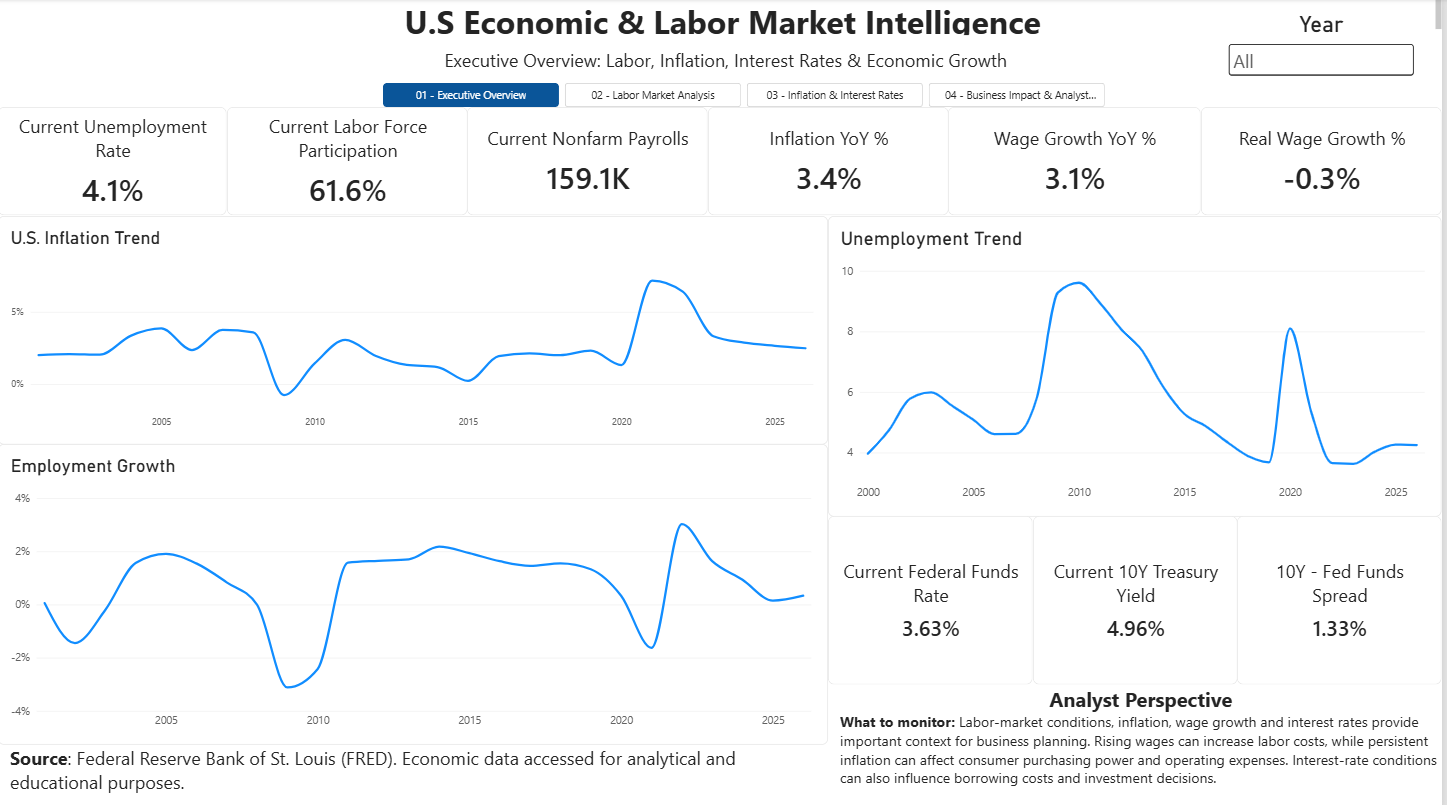

What the dashboard file says about the page in this screenshot:
{"tool":"powerbi","page":{"name":"01 - Executive Overview","canvas":[1920,1080],"ordinal":0},"visuals":[{"type":"textbox","box":[16,0,1904,48],"z":0},{"type":"textbox","box":[16,64,1904,48],"z":1},{"type":"cardVisual","title":"Current Unemployment Rate","fields":{"Data":["Fact_Unemployment.Current Unemployment Rate"]},"box":[0,144,304,144],"z":2},{"type":"cardVisual","title":"Current Labor Force Participation","fields":{"Data":["Fact_Labor_Force.Current Labor Force Participation"]},"box":[304,144,320,144],"z":3},{"type":"cardVisual","title":"Current Non Farm Payrolls","fields":{"Data":["Fact_Payrolls.Current Nonfarm Payrolls"]},"box":[624,144,320,144],"z":4},{"type":"cardVisual","title":"Inflation YoY %","fields":{"Data":["Measurers.Inflation YoY %"]},"box":[944,144,320,144],"z":5},{"type":"cardVisual","title":"Wage Growth YoY %","fields":{"Data":["Measurers.Wage Growth YoY %"]},"box":[1264,144,336,144],"z":6},{"type":"cardVisual","title":"Real Wage Growth %","fields":{"Data":["Measurers.Real Wage Growth %"]},"box":[1600,144,320,144],"z":7},{"type":"lineChart","title":"U.S. Inflation Trend","fields":{"Category":["Dim_Month.Month Start.Variation.Date Hierarchy.Year","Dim_Month.Month Start.Variation.Date Hierarchy.Quarter","Dim_Month.Month Start.Variation.Date Hierarchy.Month","Dim_Month.Month Start.Variation.Date Hierarchy.Day"],"Y":["Measurers.Inflation YoY Trend %"]},"box":[0,288,1104,304],"z":8},{"type":"lineChart","title":"Unemployment Trend","fields":{"Category":["Dim_Month.Month Start.Variation.Date Hierarchy.Year","Dim_Month.Month Start.Variation.Date Hierarchy.Quarter","Dim_Month.Month Start.Variation.Date Hierarchy.Month","Dim_Month.Month Start.Variation.Date Hierarchy.Day"],"Y":["Fact_Unemployment.Average Unemployment Rate"]},"box":[1104,288,816,400],"z":9},{"type":"lineChart","title":"Employment Growth","fields":{"Category":["Dim_Month.Month Start.Variation.Date Hierarchy.Year","Dim_Month.Month Start.Variation.Date Hierarchy.Quarter","Dim_Month.Month Start.Variation.Date Hierarchy.Month","Dim_Month.Month Start.Variation.Date Hierarchy.Day"],"Y":["Measurers.Payroll YoY Growth Trend %"]},"box":[0,592,1104,400],"z":10},{"type":"cardVisual","title":"Current Federal Funds Rate","fields":{"Data":["Measurers.Current Federal Funds Rate"]},"box":[1104,688,272,224],"z":11},{"type":"cardVisual","title":"Current 10Y Treasury Yield","fields":{"Data":["Measurers.Current 10Y Treasury Yield"]},"box":[1376,688,272,224],"z":12},{"type":"cardVisual","title":"10Y - Fed Funds Spread","fields":{"Data":["Measurers.10Y - Fed Funds Spread"]},"box":[1648,688,272,224],"z":13},{"type":"slicer","title":"Year","fields":{"Values":["Dim_Month.Year"]},"box":[1632,16,256,96],"z":14},{"type":"textbox","box":[1120,912,800,160],"z":15},{"type":"textbox","box":[16,992,1088,80],"z":16},{"type":"pageNavigator","box":[512,112,960,32],"z":17}]}

Visuals, with their boxes in screenshot pixels (x1, y1, x2, y2), scaled from the page's 1920x1080 canvas onto the 1447x805 screenshot:
textbox: l=12, t=0, r=1446, b=36
textbox: l=12, t=48, r=1446, b=83
"Current Unemployment Rate" cardVisual: l=0, t=107, r=229, b=215
"Current Labor Force Participation" cardVisual: l=229, t=107, r=470, b=215
"Current Non Farm Payrolls" cardVisual: l=470, t=107, r=711, b=215
"Inflation YoY %" cardVisual: l=711, t=107, r=953, b=215
"Wage Growth YoY %" cardVisual: l=953, t=107, r=1206, b=215
"Real Wage Growth %" cardVisual: l=1206, t=107, r=1446, b=215
"U.S. Inflation Trend" lineChart: l=0, t=215, r=832, b=441
"Unemployment Trend" lineChart: l=832, t=215, r=1446, b=513
"Employment Growth" lineChart: l=0, t=441, r=832, b=739
"Current Federal Funds Rate" cardVisual: l=832, t=513, r=1037, b=680
"Current 10Y Treasury Yield" cardVisual: l=1037, t=513, r=1242, b=680
"10Y - Fed Funds Spread" cardVisual: l=1242, t=513, r=1446, b=680
"Year" slicer: l=1230, t=12, r=1423, b=83
textbox: l=844, t=680, r=1446, b=799
textbox: l=12, t=739, r=832, b=799
pageNavigator: l=386, t=83, r=1109, b=107
